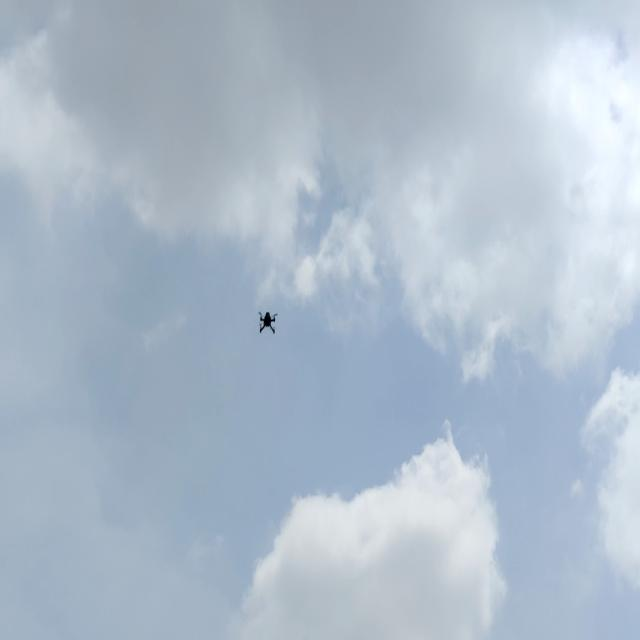drone: (257, 306, 282, 342)
